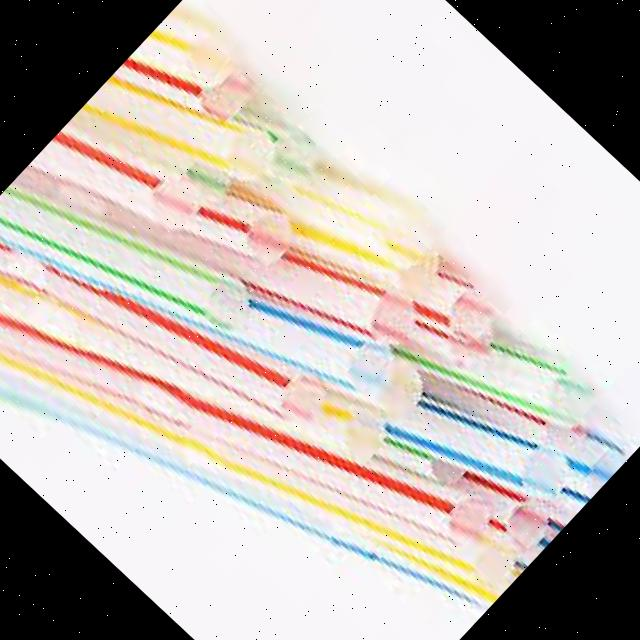plastic: (0, 107, 292, 461)
